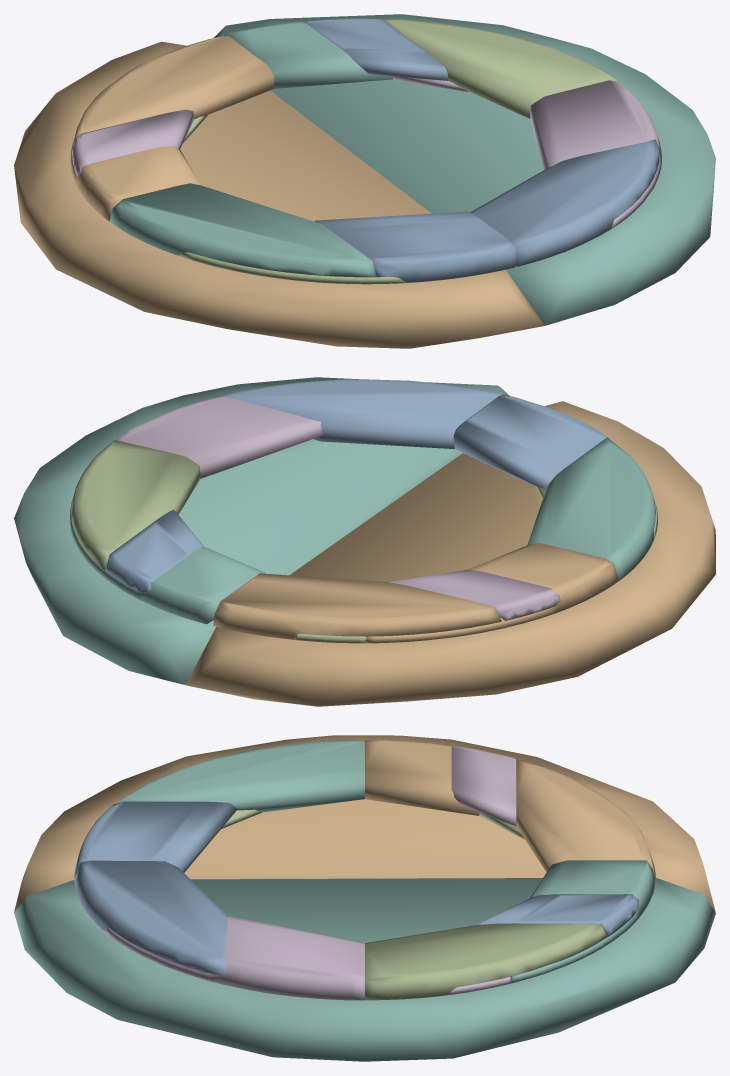
The picture shows the model from 3 angles, top to bottom: view 1: azimuth 30°, elevation 25°; view 2: azimuth 150°, elevation 25°; view 3: azimuth 270°, elevation 25°; orthographic projection. The views are drawn at different scales.
Size of the model in its own units: 1.99 by 0.1958 by 1.99.
